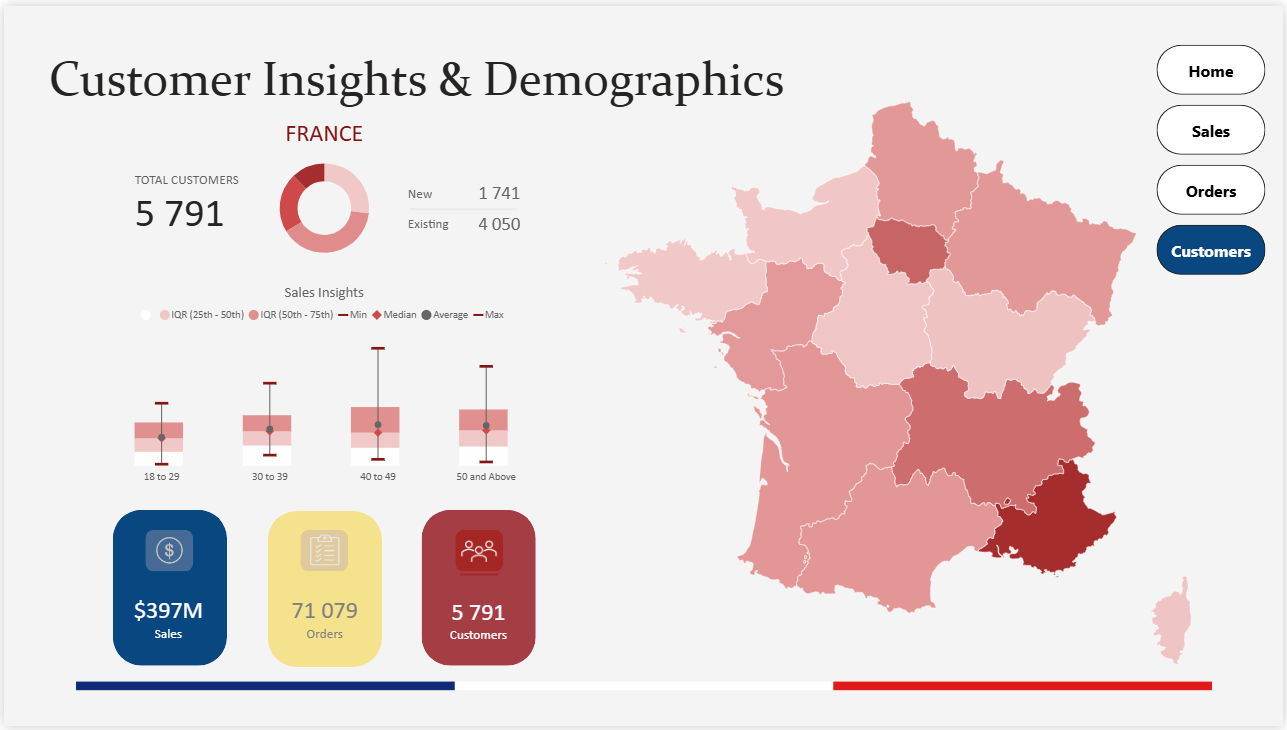

This screenshot's page, from the dashboard's own definition file:
{"tool":"powerbi","page":{"name":"Customers","canvas":[1280,720],"ordinal":3},"visuals":[{"type":"shape","box":[417.9,503.6,114.3,156],"z":0},{"type":"shape","box":[264.3,504.8,114.3,156],"z":1000},{"type":"shape","box":[108.3,503.6,114.3,156],"z":2000},{"type":"shape","box":[406.5,194,106.2,19],"z":3000},{"type":"shape","box":[456,556.8,38.1,24.6],"z":4000},{"type":"textbox","title":"Text Title","box":[40.5,39.3,745.2,71.4],"z":5000},{"type":"cardVisual","fields":{"Data":["Measure Table.Test"]},"box":[103,567.9,124,88.4],"z":6000},{"type":"cardVisual","fields":{"Data":["Measure Table.Orders CFY"]},"box":[259,567.9,124,88.4],"z":7000},{"type":"cardVisual","fields":{"Data":["Measure Table.Order Cust CFY"]},"box":[413,569,124,88.4],"z":8000},{"type":"cardVisual","fields":{"Data":["Measure Table.Order Cust CFY"]},"box":[113.6,149.2,141.8,89.6],"z":9000},{"type":"textbox","box":[398.7,171.9,60.8,30.7],"z":10000},{"type":"textbox","box":[398.7,202.6,60.8,30.7],"z":11000},{"type":"cardVisual","fields":{"Data":["Measure Table.Order Cust New"]},"box":[451.3,171.9,74.3,27.6],"z":12000},{"type":"cardVisual","fields":{"Data":["Measure Table.Order Cust Existing"]},"box":[451.3,203.8,74.3,27.6],"z":13000},{"type":"actionButton","box":[141.6,523.1,48,41.8],"z":14000},{"type":"actionButton","box":[296.7,523.1,48,41.8],"z":15000},{"type":"actionButton","box":[451.4,523.1,48,41.8],"z":16000},{"type":"shapeMap","fields":{"Category":["_region.Name"]},"box":[562,47.9,662.5,659.4],"z":17000},{"type":"cardVisual","fields":{"Data":["Measure Table.Sel"]},"box":[89.3,106,463.1,40.5],"z":21000},{"type":"donutChart","fields":{"Y":["Measure Table.Order Cust CFY"],"Category":["_orders.Current Age Group"]},"box":[247.4,146.7,146.1,111.7],"z":23000},{"type":"lineStackedColumnComboChart","title":"Sales Insights","fields":{"Y2":["Measure Table.Sales Min CFY","Measure Table.Sales Median CFY","Measure Table.Avg Sales CFY","Measure Table.Sales Max CFY"],"Category":["_orders.Order Cust Age Group"],"Y":["Measure Table.Sales Pctile 25 CFY","Measure Table.Sales IQR 25-50","Measure Table.Sales IQR 50-75"]},"box":[82.9,277.5,475.2,210.6],"z":24000},{"type":"pageNavigator","box":[1152.4,39.3,109.5,231],"z":25000}]}

Visuals, with their boxes in screenshot pixels (x1, y1, x2, y2), scaled from the page's 1280x720 canvas onto the 1287x730 screenshot:
shape: x1=420, y1=511, x2=535, y2=669
shape: x1=266, y1=512, x2=381, y2=670
shape: x1=109, y1=511, x2=224, y2=669
shape: x1=409, y1=197, x2=516, y2=216
shape: x1=458, y1=565, x2=497, y2=589
"Text Title" textbox: x1=41, y1=40, x2=790, y2=112
cardVisual - Measure Table.Test: x1=104, y1=576, x2=228, y2=665
cardVisual - Measure Table.Orders CFY: x1=260, y1=576, x2=385, y2=665
cardVisual - Measure Table.Order Cust CFY: x1=415, y1=577, x2=540, y2=667
cardVisual - Measure Table.Order Cust CFY: x1=114, y1=151, x2=257, y2=242
textbox: x1=401, y1=174, x2=462, y2=205
textbox: x1=401, y1=205, x2=462, y2=237
cardVisual - Measure Table.Order Cust New: x1=454, y1=174, x2=528, y2=202
cardVisual - Measure Table.Order Cust Existing: x1=454, y1=207, x2=528, y2=235
actionButton: x1=142, y1=530, x2=191, y2=573
actionButton: x1=298, y1=530, x2=347, y2=573
actionButton: x1=454, y1=530, x2=502, y2=573
shapeMap - _region.Name: x1=565, y1=49, x2=1231, y2=717
cardVisual - Measure Table.Sel: x1=90, y1=107, x2=555, y2=149
donutChart - Measure Table.Order Cust CFY x _orders.Current Age Group: x1=249, y1=149, x2=396, y2=262
"Sales Insights" lineStackedColumnComboChart: x1=83, y1=281, x2=561, y2=495
pageNavigator: x1=1159, y1=40, x2=1269, y2=274
